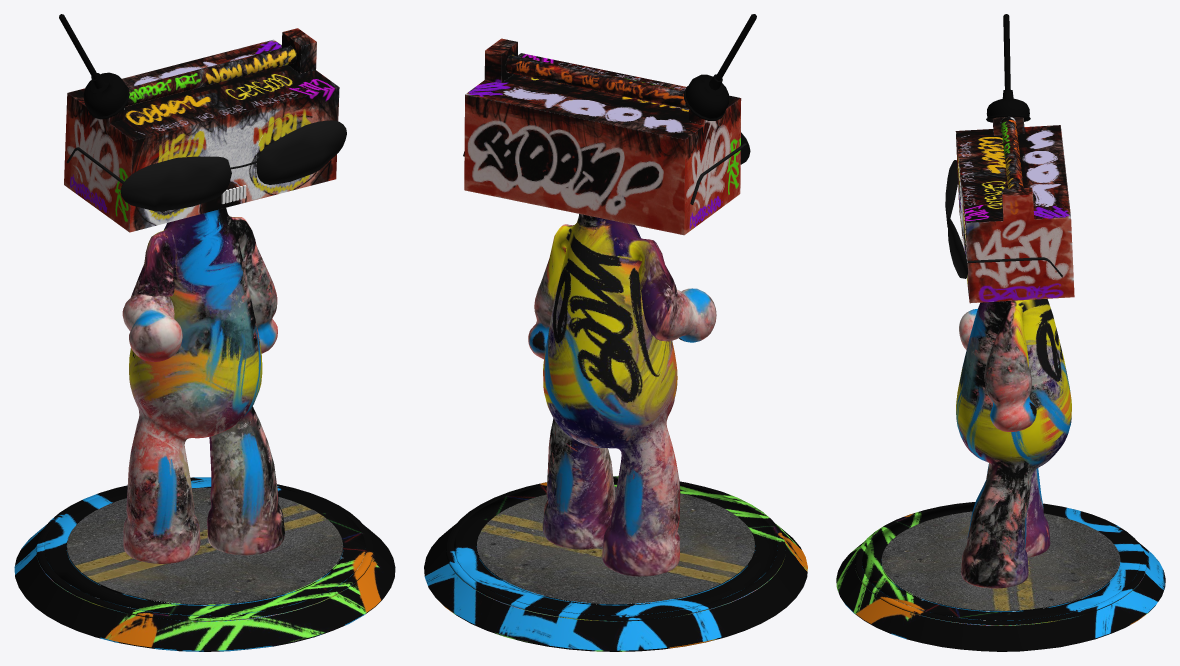
3 views of the same model, side by side, from view 1: azimuth 30°, elevation 25°; view 2: azimuth 150°, elevation 25°; view 3: azimuth 270°, elevation 25° (orthographic). The views are drawn at different scales.
Visible parts, largest first — view 1: BBody; view 2: BBody; view 3: BBody.
Boxes of the visible parts, bbox=[...] form: BBody: bbox=[14, 14, 395, 651]; BBody: bbox=[424, 14, 807, 651]; BBody: bbox=[836, 14, 1165, 651].
Bounding box in the file's own units: 1.45 × 2.47 × 1.45.
7 materials, 4 textured.
